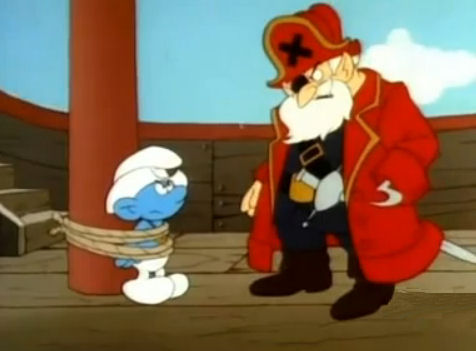smurf: (102, 143, 191, 305)
